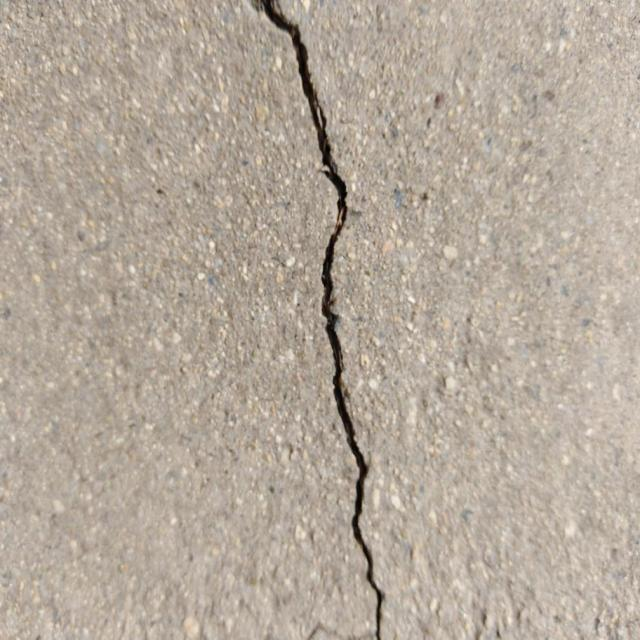diagonal crack: (242, 0, 386, 639)
